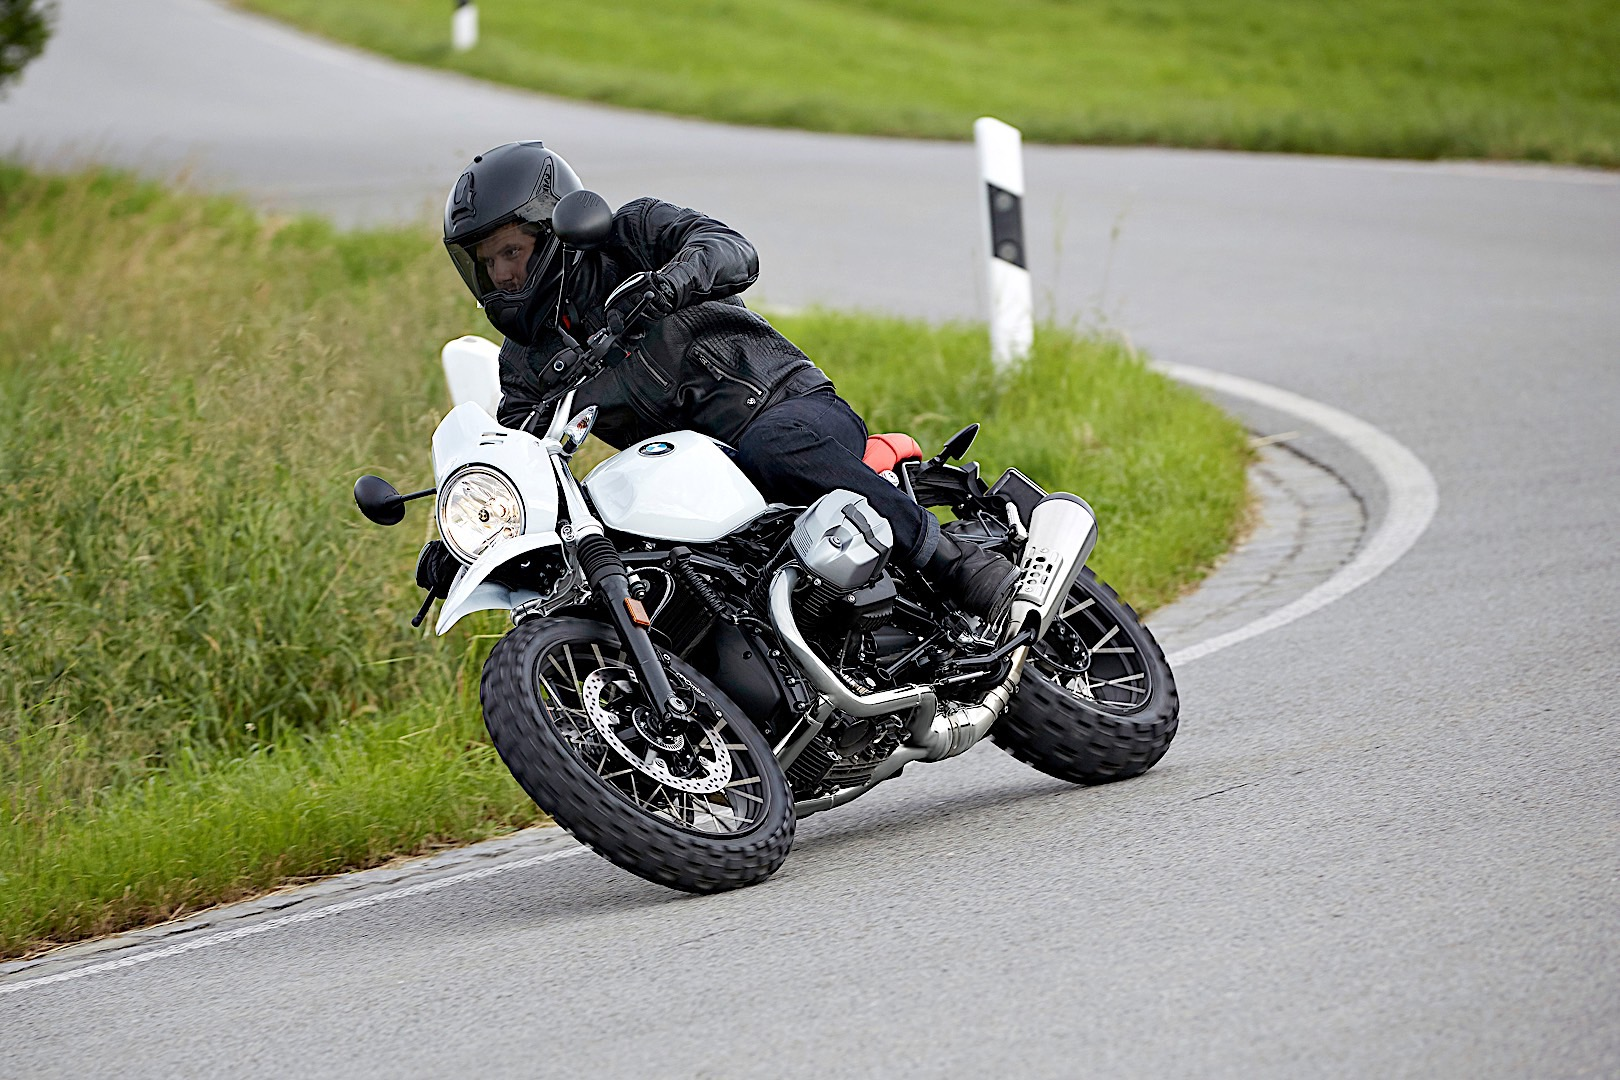bike: (353, 334, 1228, 839)
